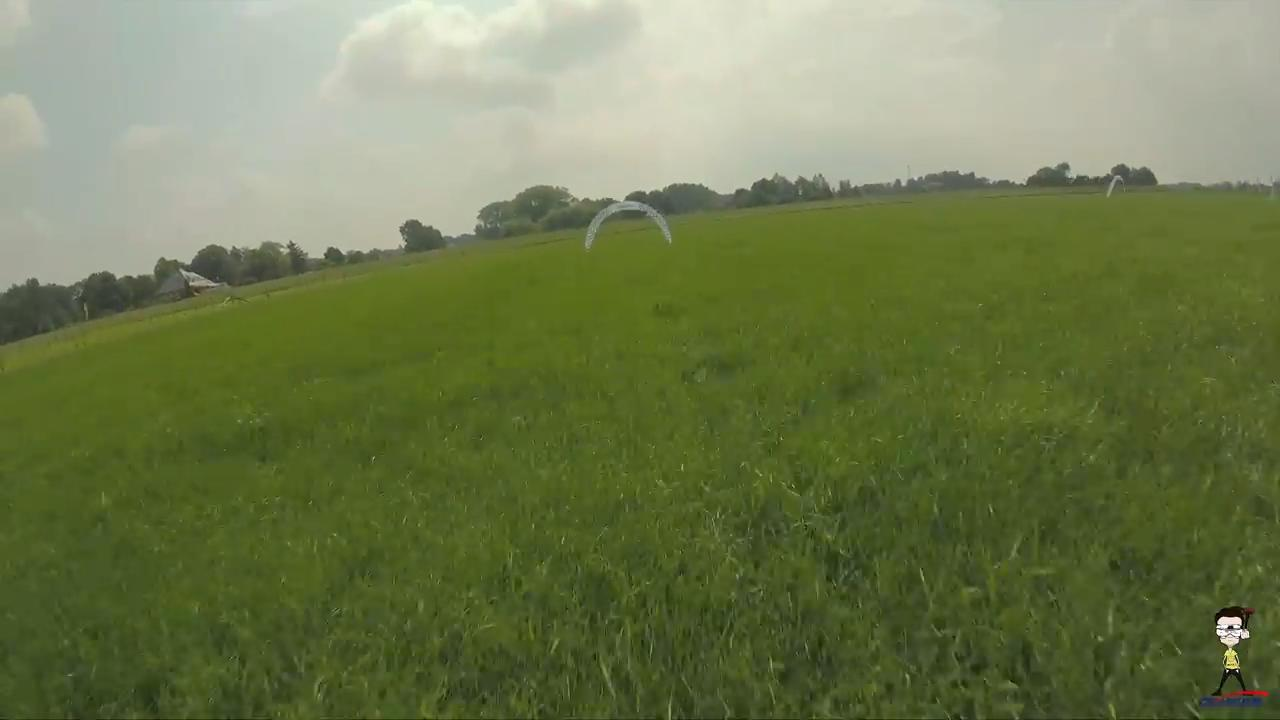gate: (585, 199, 672, 250)
